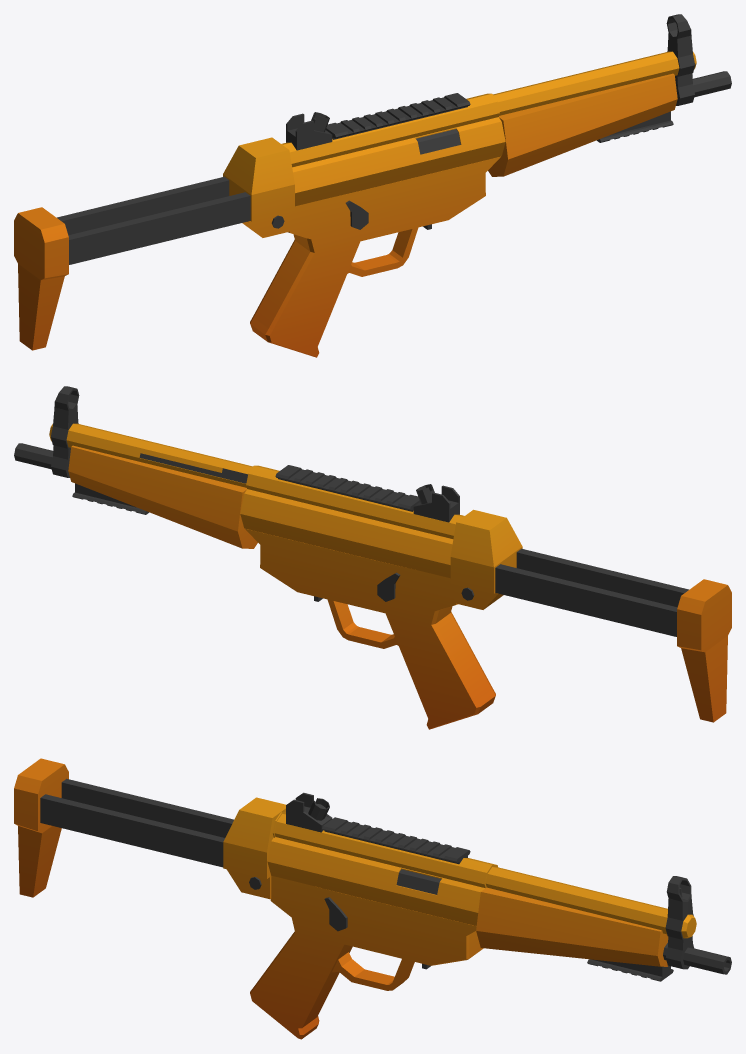
File: SMG2_06.fbx
3 views of the same model, one above another, from view 1: azimuth 30°, elevation 25°; view 2: azimuth 150°, elevation 25°; view 3: azimuth 330°, elevation 25° (orthographic).
Parts seen in each view (by area): view 1: SMG2_06; view 2: SMG2_06; view 3: SMG2_06.
Part boxes in pixels (bbox=[...]): SMG2_06: bbox=[14, 14, 731, 357]; SMG2_06: bbox=[14, 386, 731, 729]; SMG2_06: bbox=[14, 758, 731, 1039].
Size of the model in its own units: 0.7164 by 0.2409 by 0.0566.
